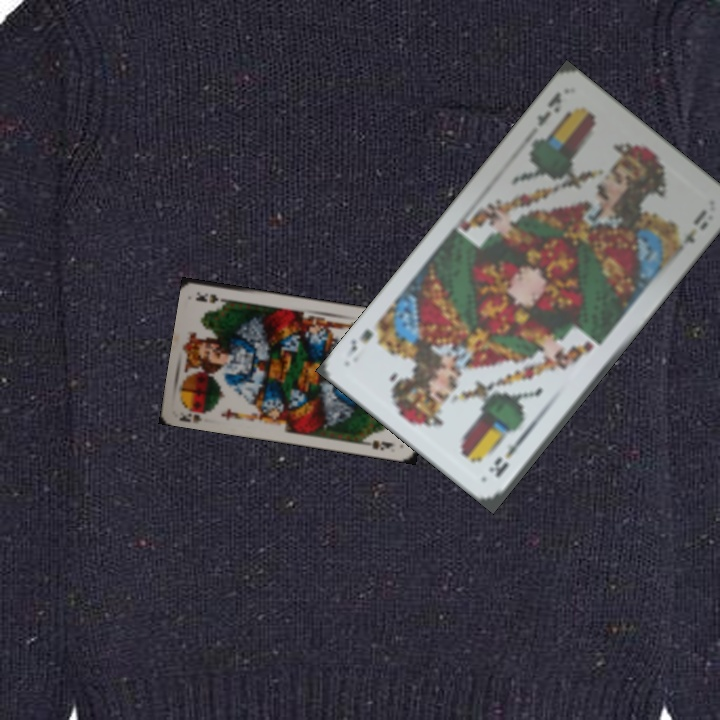EK: (484, 430, 529, 481), (533, 87, 564, 129)
SK: (176, 409, 204, 425)
